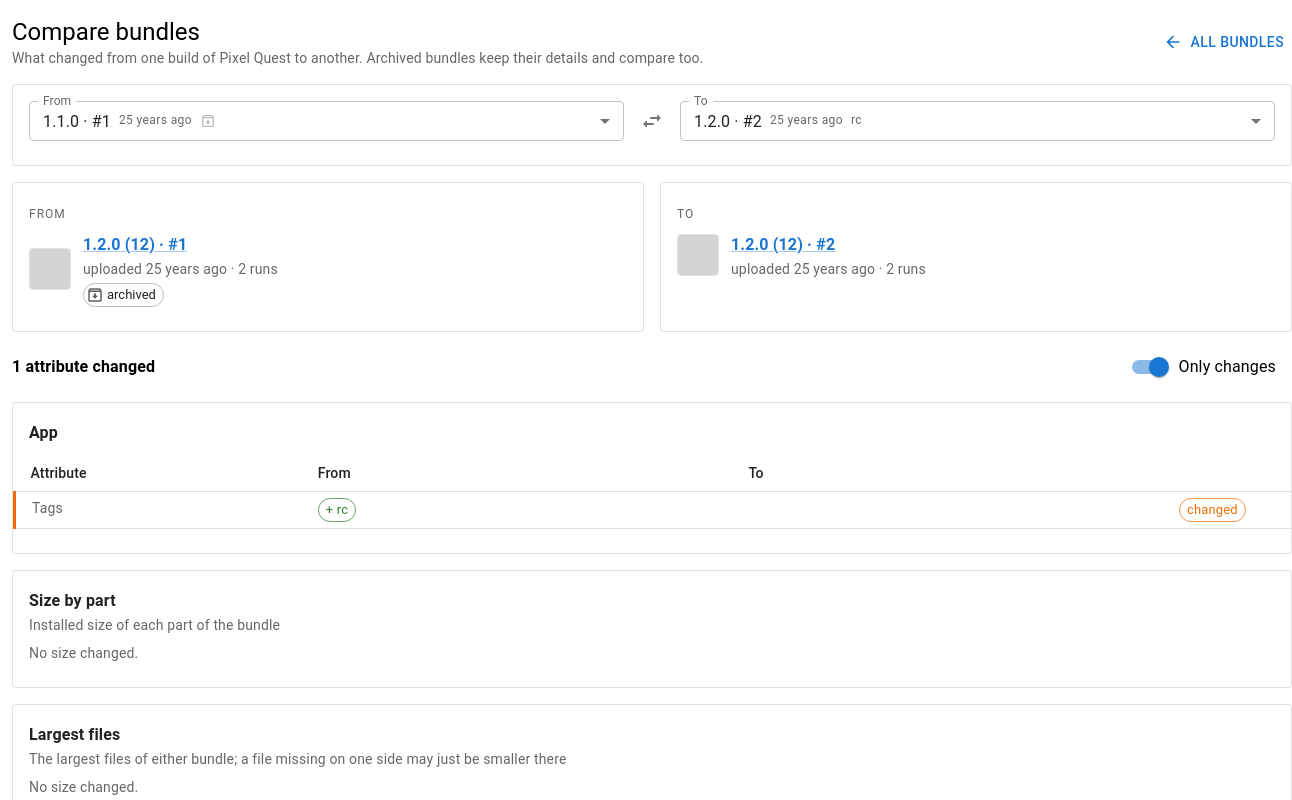
Test case: marks tags and archived bundles in the pickers
Expected: the text "1 attribute changed" is shown, [12,355,155,379]
Click the 1st dropdown: (130, 121) [43,112,216,130]
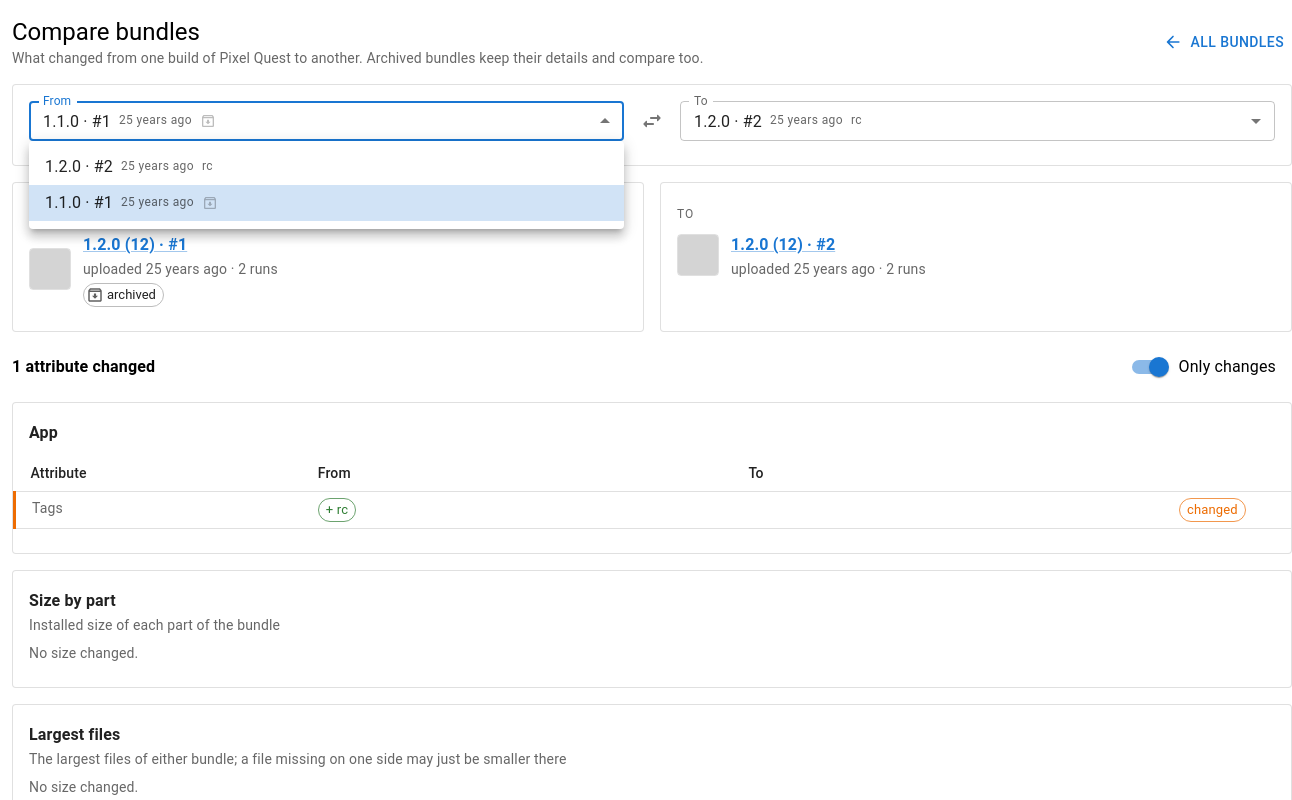
Now the text "rc" is shown, box [202,157,213,177]
Now the icon named "archived" is shown, box [202,195,218,211]
